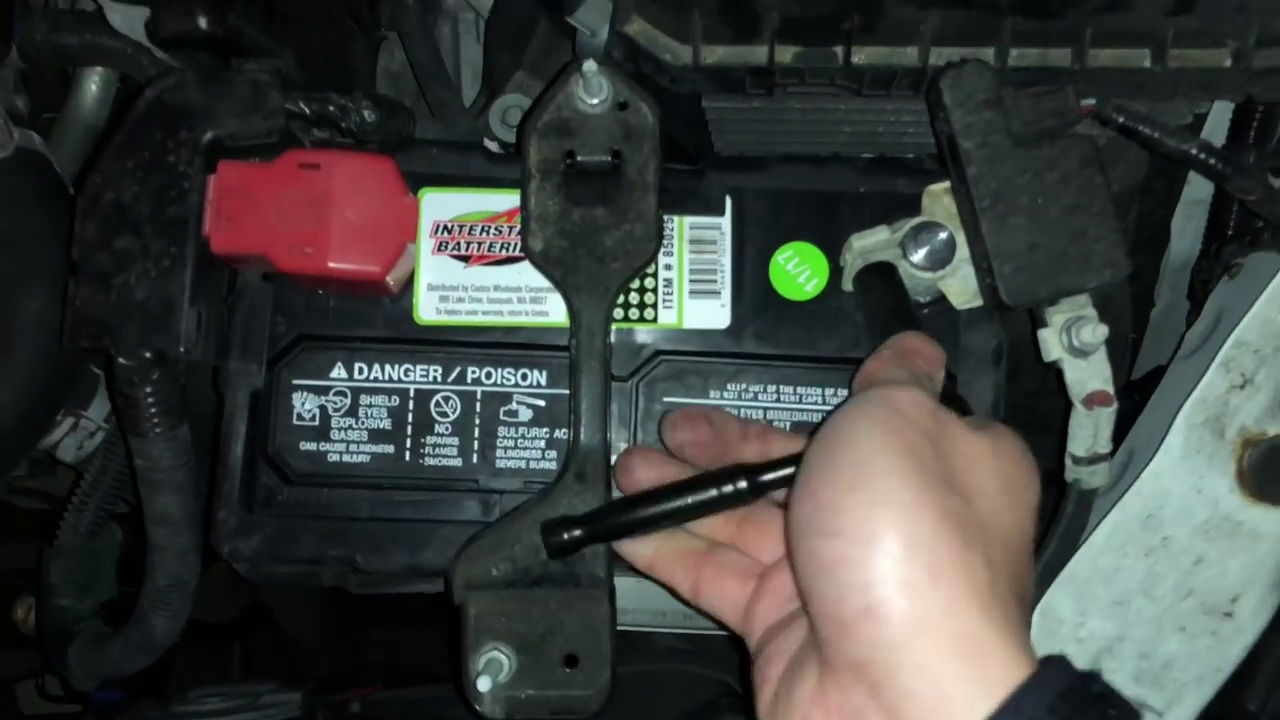battery: (204, 142, 1004, 561)
neg_connected: (835, 154, 1013, 336)
pos_connected: (178, 129, 441, 303)
